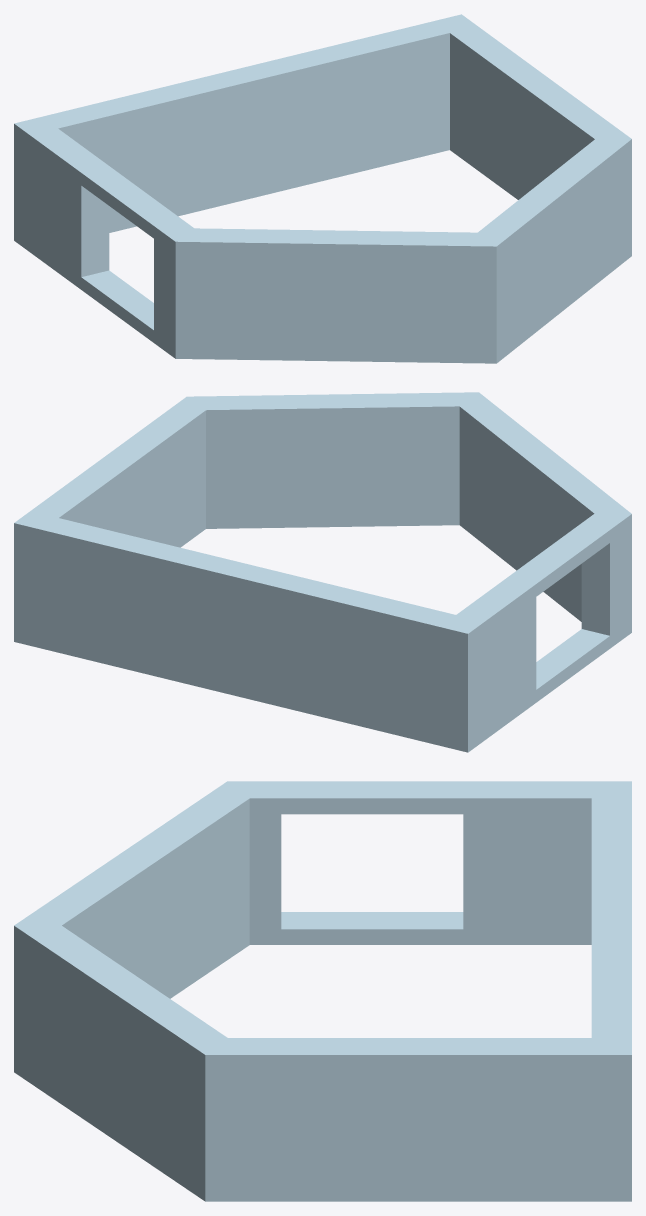
The model's file is window.glb.
3 views of the same model, one above another, from view 1: azimuth 30°, elevation 25°; view 2: azimuth 150°, elevation 25°; view 3: azimuth 270°, elevation 25° (orthographic). The views are drawn at different scales.
Parts seen in each view (by area): view 1: endwall; view 2: endwall; view 3: endwall.
Part boxes in pixels (x1,y1,x2,y2): endwall: (14, 14, 631, 363); endwall: (14, 392, 631, 752); endwall: (14, 781, 631, 1201).
Bounding box in the file's own units: 4.8 × 1.2 × 4.58.
